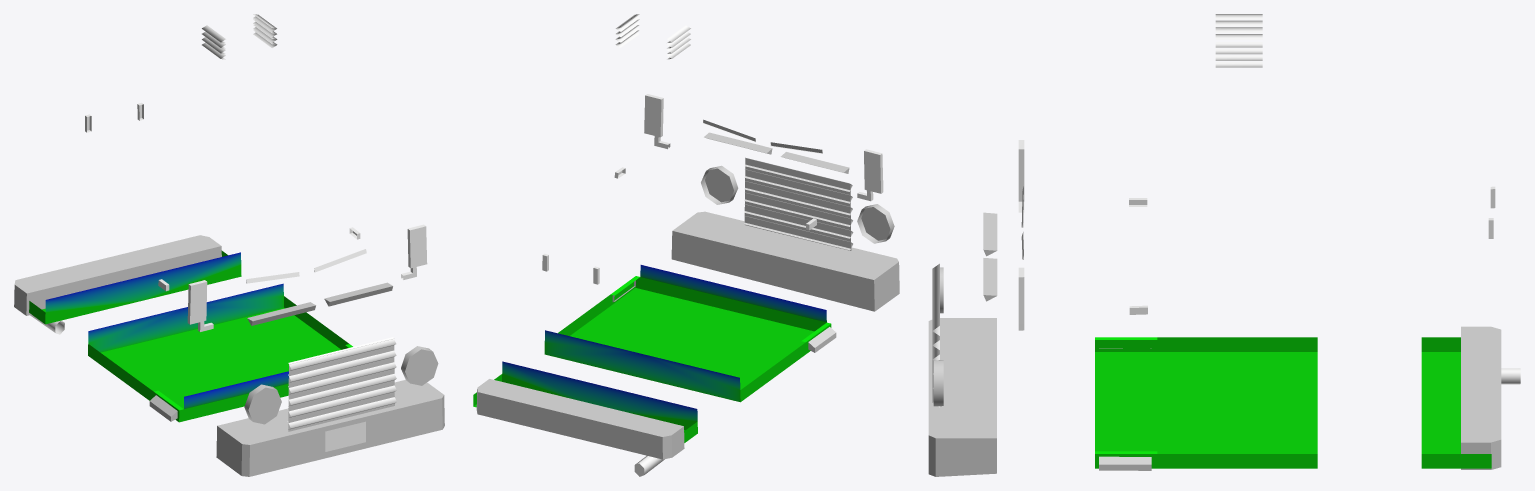
Rendered from Car3Body2.fbx.
The picture shows the model from 3 angles, left to right: view 1: azimuth 30°, elevation 25°; view 2: azimuth 150°, elevation 25°; view 3: azimuth 270°, elevation 25°; orthographic projection. The views are drawn at different scales.
Visible parts, largest first — view 1: Car3Body2; view 2: Car3Body2; view 3: Car3Body2.
Part boxes in pixels (x1,y1,x2,y2): Car3Body2: (14, 14, 444, 476); Car3Body2: (473, 14, 899, 476); Car3Body2: (928, 14, 1520, 476).
Size of the model in its own units: 3.31 by 4.55 by 5.86.
